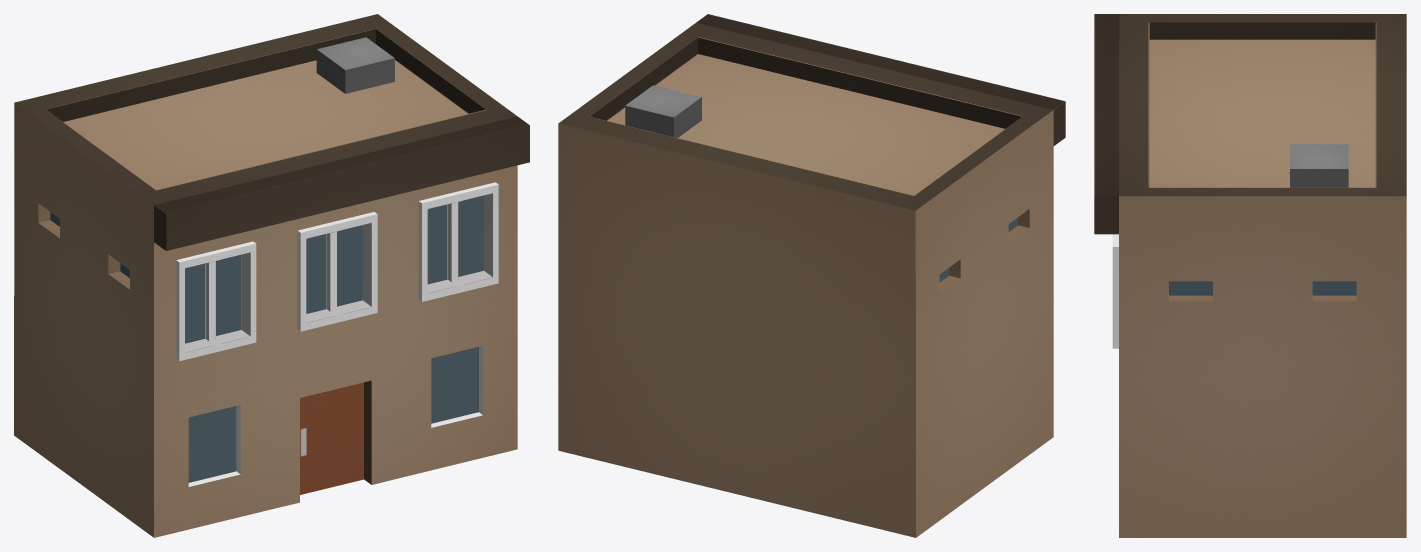
File: House_11_UV_Color.fbx
The picture shows the model from 3 angles, left to right: view 1: azimuth 30°, elevation 25°; view 2: azimuth 150°, elevation 25°; view 3: azimuth 270°, elevation 25°; orthographic projection. The views are drawn at different scales.
Visible parts, largest first — view 1: House_11_UV_Color; view 2: House_11_UV_Color; view 3: House_11_UV_Color.
Part boxes in pixels (x1,y1,x2,y2): House_11_UV_Color: (14, 14, 529, 537); House_11_UV_Color: (558, 14, 1065, 537); House_11_UV_Color: (1094, 14, 1406, 537).
Size of the model in its own units: 1655 by 1479 by 1199.
